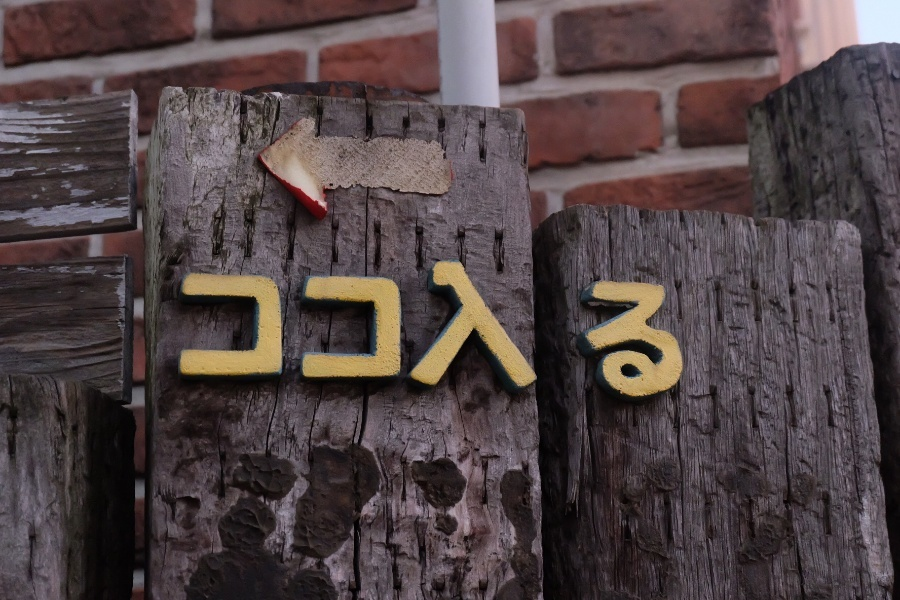text: (177, 250, 192, 403), (193, 250, 208, 403), (209, 250, 224, 403), (225, 250, 240, 403), (241, 250, 256, 403), (257, 250, 272, 403), (273, 250, 288, 403), (289, 250, 304, 403), (305, 250, 320, 403), (321, 250, 336, 403), (337, 250, 352, 403), (353, 250, 368, 403), (369, 250, 384, 403), (385, 250, 400, 403), (401, 250, 416, 403), (417, 250, 432, 403), (433, 250, 448, 403), (449, 250, 464, 403), (465, 250, 480, 403), (481, 250, 496, 403), (497, 250, 512, 403), (513, 250, 528, 403), (529, 250, 544, 403), (545, 250, 560, 403), (561, 250, 576, 403), (577, 250, 592, 403), (593, 250, 608, 403), (609, 250, 624, 403), (625, 250, 640, 403), (641, 250, 656, 403), (657, 250, 672, 403), (673, 250, 688, 403), (689, 250, 692, 403), (175, 250, 176, 403)
